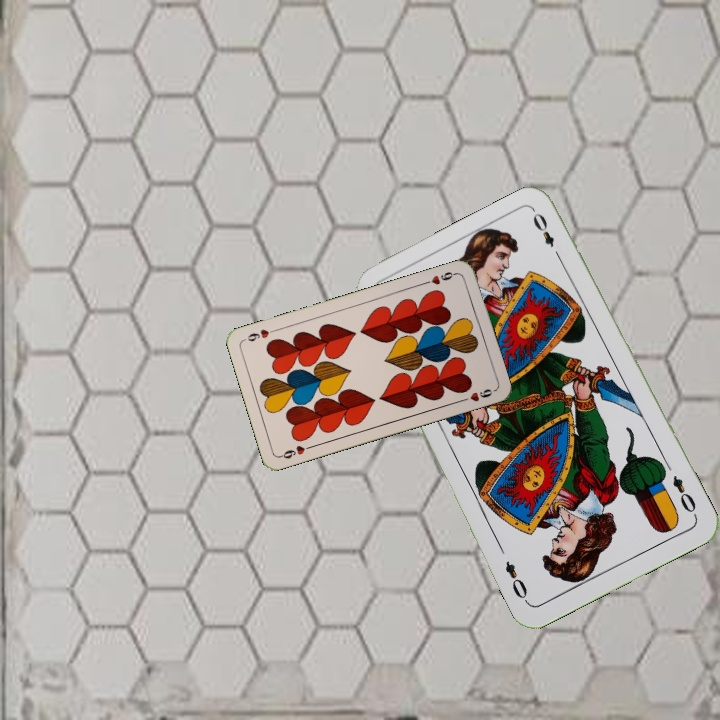EO: (668, 471, 699, 516)
H9: (276, 441, 316, 461), (420, 268, 460, 287)
